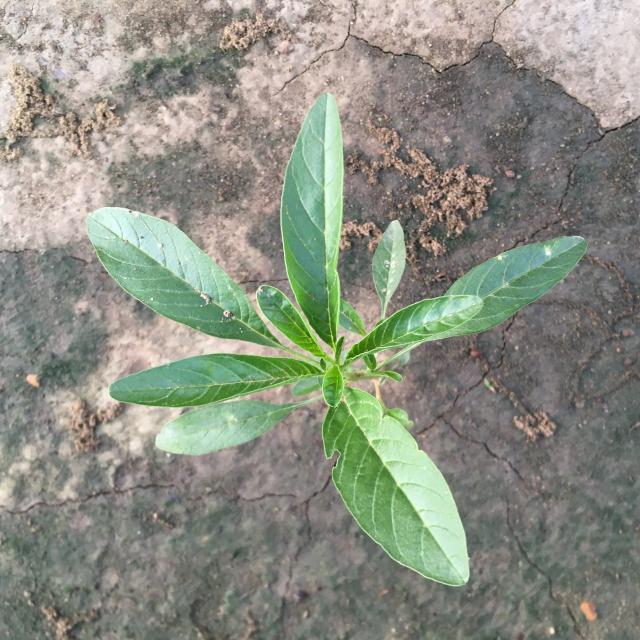Waterhemp: (86, 92, 588, 588)
